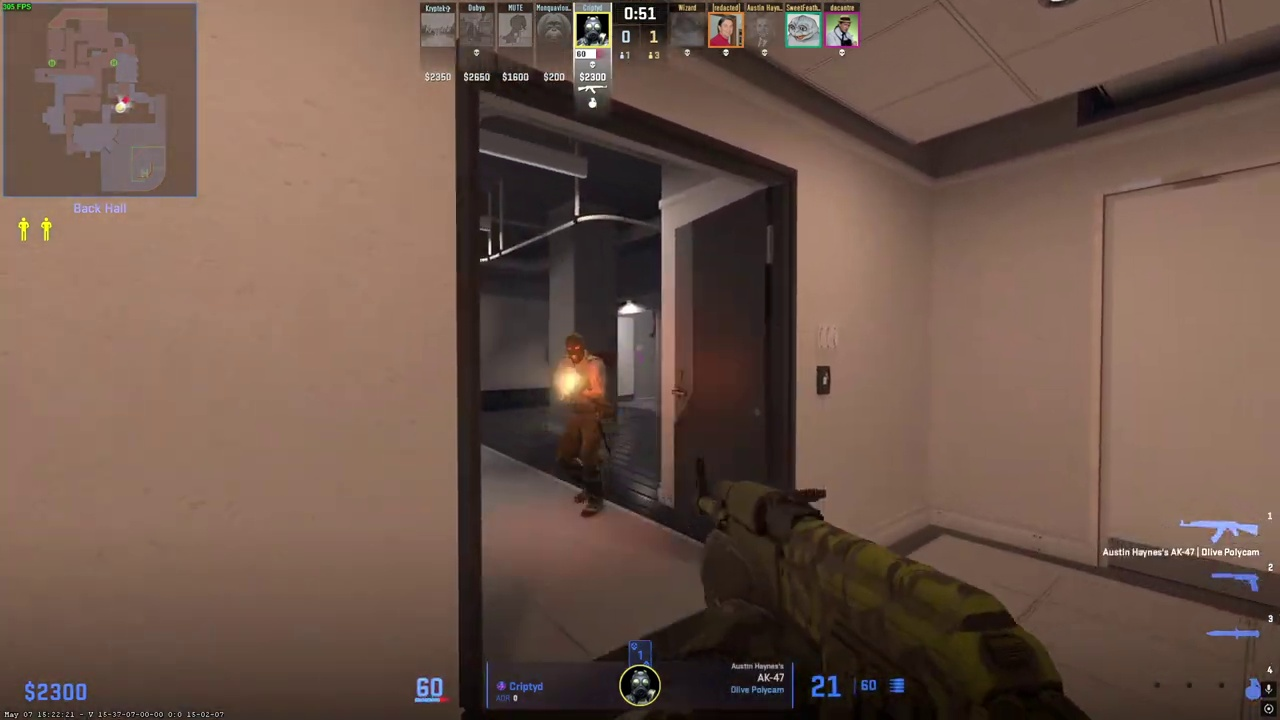Terrorist: (550, 334, 616, 516)
